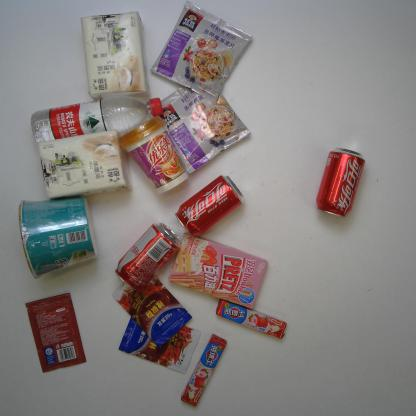Candy: (180, 333, 227, 408), (214, 300, 287, 342)
Dessert: (168, 233, 270, 309)
Drink: (30, 94, 163, 142), (114, 222, 182, 290), (173, 174, 244, 238), (314, 146, 364, 217)
Instant Drink: (148, 1, 256, 102), (156, 78, 251, 173), (117, 115, 189, 194)
Instant Noodles: (17, 196, 101, 279)
Seasoner: (108, 266, 193, 348), (24, 292, 88, 376), (117, 312, 200, 372)
Tissue: (35, 129, 133, 203), (80, 11, 147, 98)
